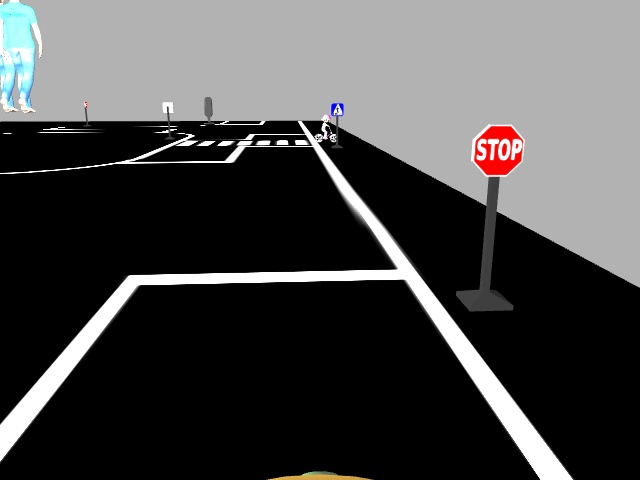Stop: (469, 122, 525, 177)
